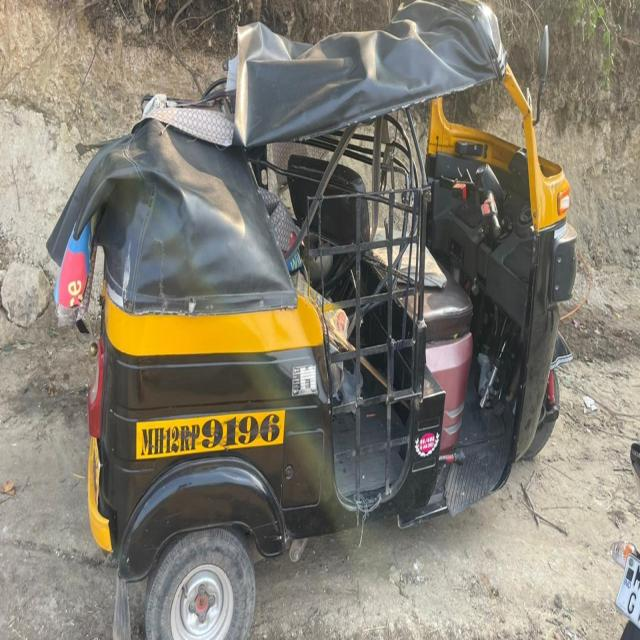accident: (48, 2, 576, 638)
